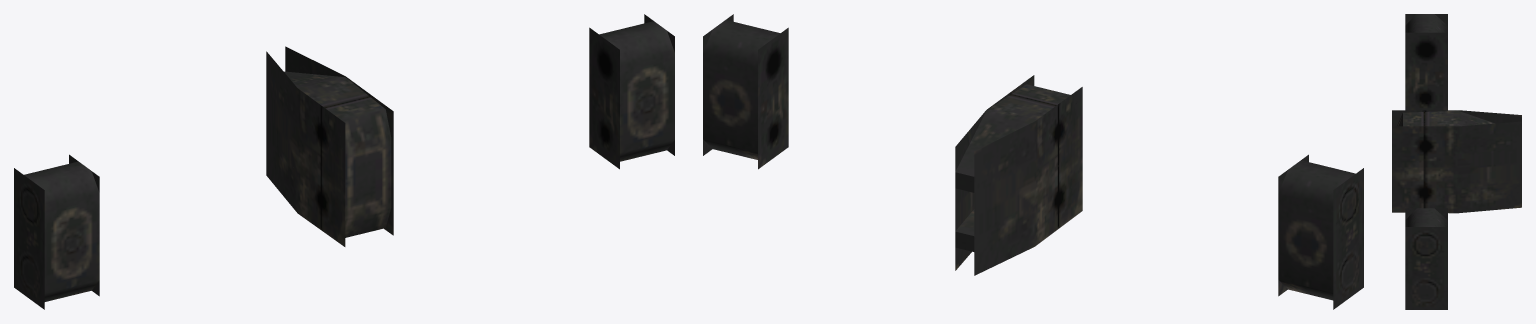
The picture shows the model from 3 angles, left to right: view 1: azimuth 30°, elevation 25°; view 2: azimuth 150°, elevation 25°; view 3: azimuth 270°, elevation 25°; orthographic projection. The views are drawn at different scales.
Visible parts, largest first — view 1: set_0_group_0; view 2: set_0_group_0; view 3: set_0_group_0.
Boxes of the visible parts, <box> form: set_0_group_0: <box>14,14,674,309</box>; set_0_group_0: <box>703,14,1363,309</box>; set_0_group_0: <box>1392,14,1521,309</box>.
Size of the model in its own units: 0.6351 by 0.1206 by 0.1637.
1 material, 1 textured.
